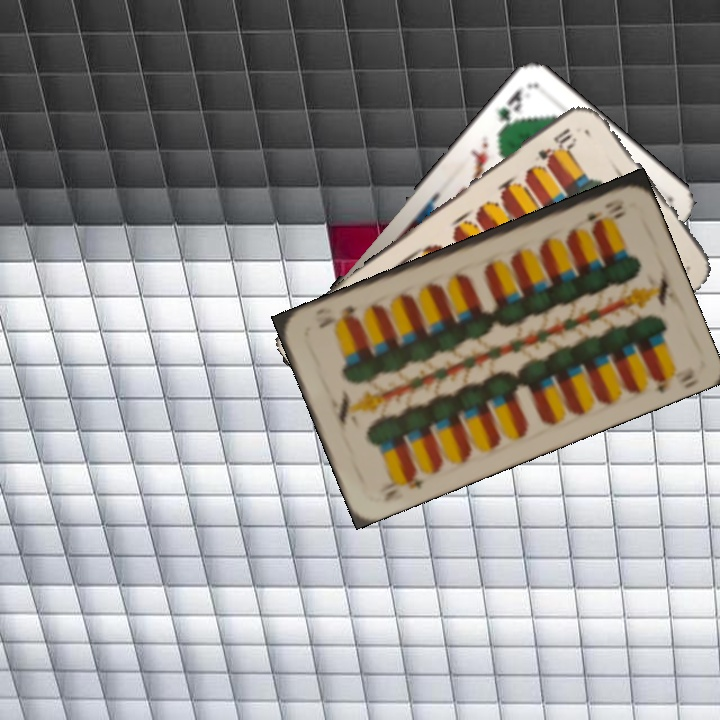E10: (533, 123, 579, 164), (379, 467, 427, 505), (582, 195, 627, 225)
GK: (493, 84, 525, 136)
